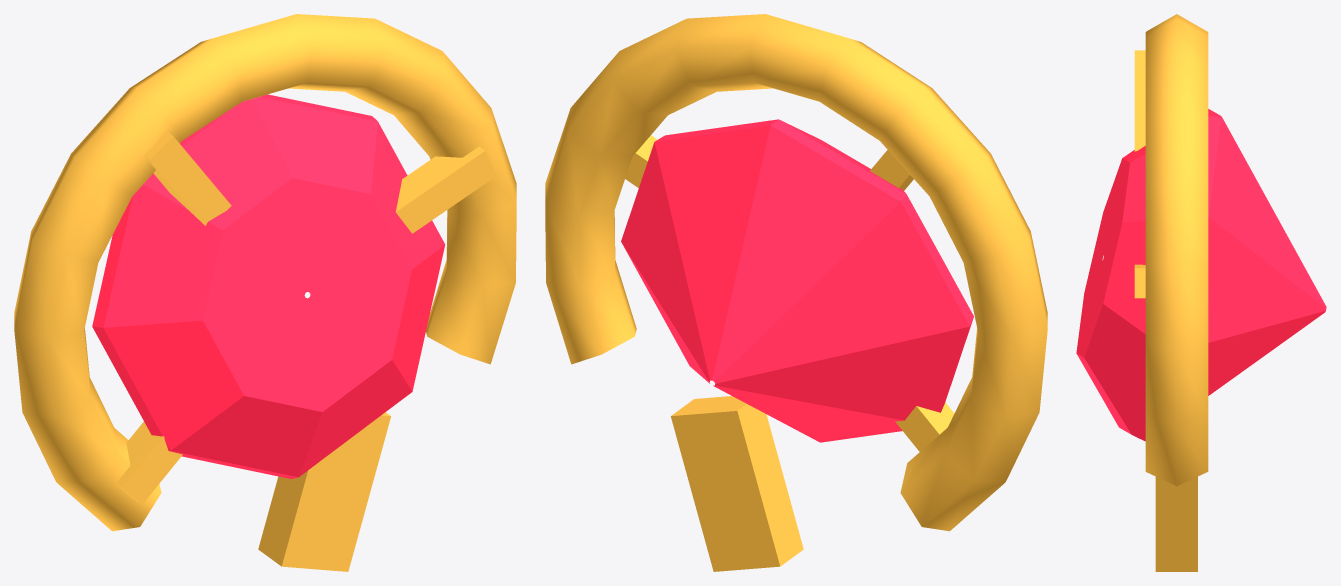
File: ruby.glb
3 renders of one model, left to right at view 1: azimuth 30°, elevation 25°; view 2: azimuth 150°, elevation 25°; view 3: azimuth 270°, elevation 25°, orthographic. The views are drawn at different scales.
Visible parts, largest first — view 1: ruby; view 2: ruby; view 3: ruby.
Part boxes in pixels (x1,y1,x2,y2): ruby: [14, 14, 516, 571]; ruby: [545, 14, 1047, 571]; ruby: [1076, 14, 1326, 571].
Bounding box in the file's own units: 0.1728 × 0.1838 × 0.083.
